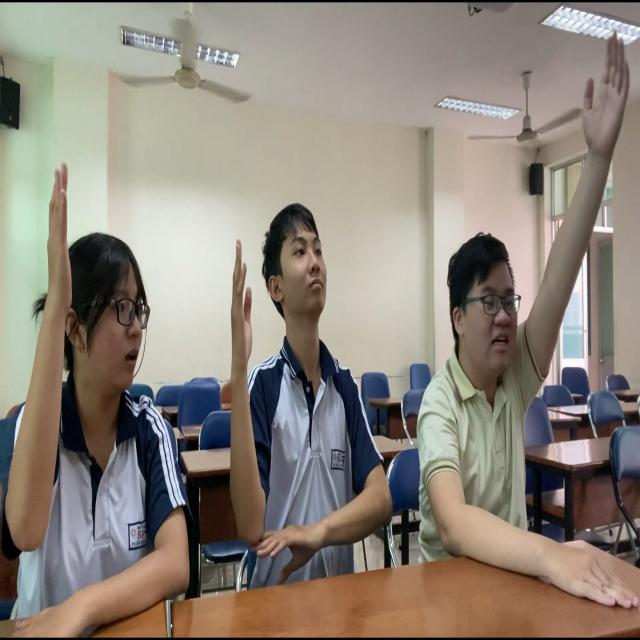raise_hand: (412, 22, 639, 599), (1, 140, 204, 640), (218, 170, 410, 592)
